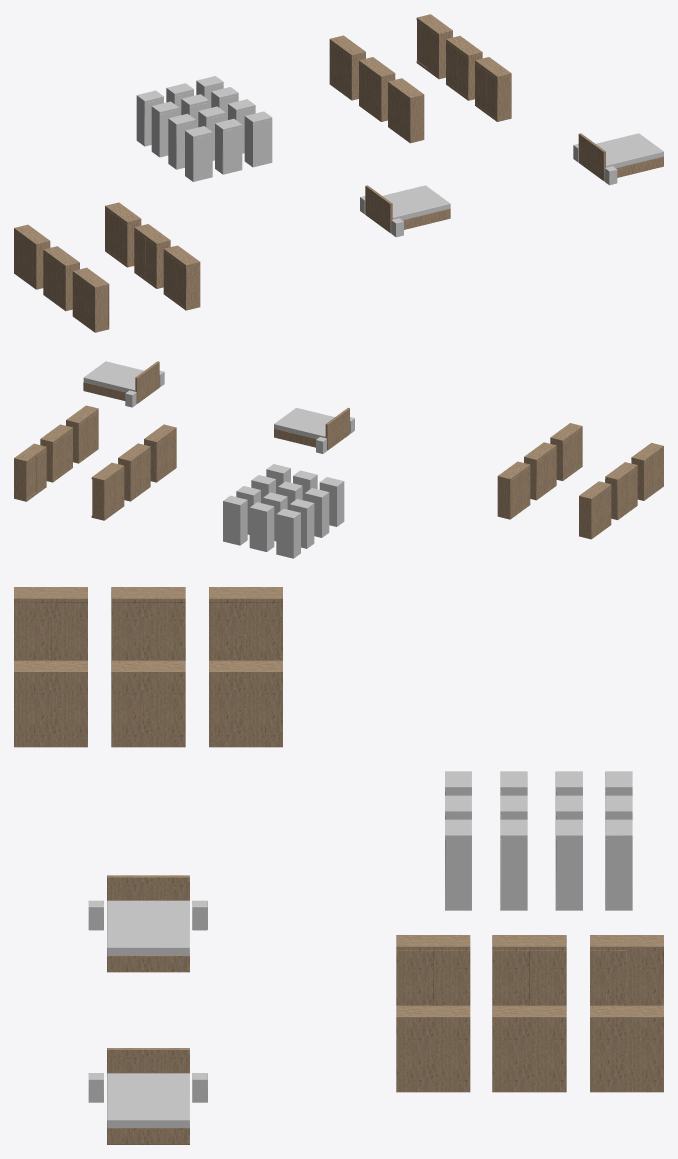
File: MAIN_BUILDING_2F_床柜.gltf
3 renders of one model, top to bottom at view 1: azimuth 30°, elevation 25°; view 2: azimuth 150°, elevation 25°; view 3: azimuth 270°, elevation 25°, orthographic. The views are drawn at different scales.
Parts seen in each view (by area): view 1: MAIN_BUILDING_2F_床柜; view 2: MAIN_BUILDING_2F_床柜; view 3: MAIN_BUILDING_2F_床柜.
Part boxes in pixels (x1,y1,x2,y2): MAIN_BUILDING_2F_床柜: (14,14,663,332); MAIN_BUILDING_2F_床柜: (14,361,663,558); MAIN_BUILDING_2F_床柜: (14,587,663,1144).
Bounding box in the file's own units: 24.74 × 1.8 × 14.08.
Materials: 2 (1 with a texture image).
